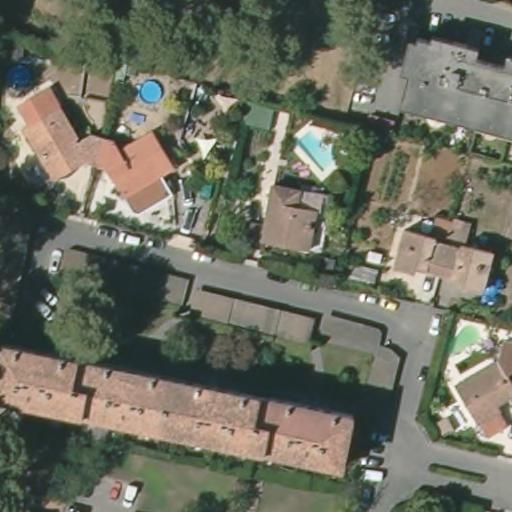pool: (297, 124, 344, 173), (441, 321, 483, 357), (137, 76, 165, 106)
